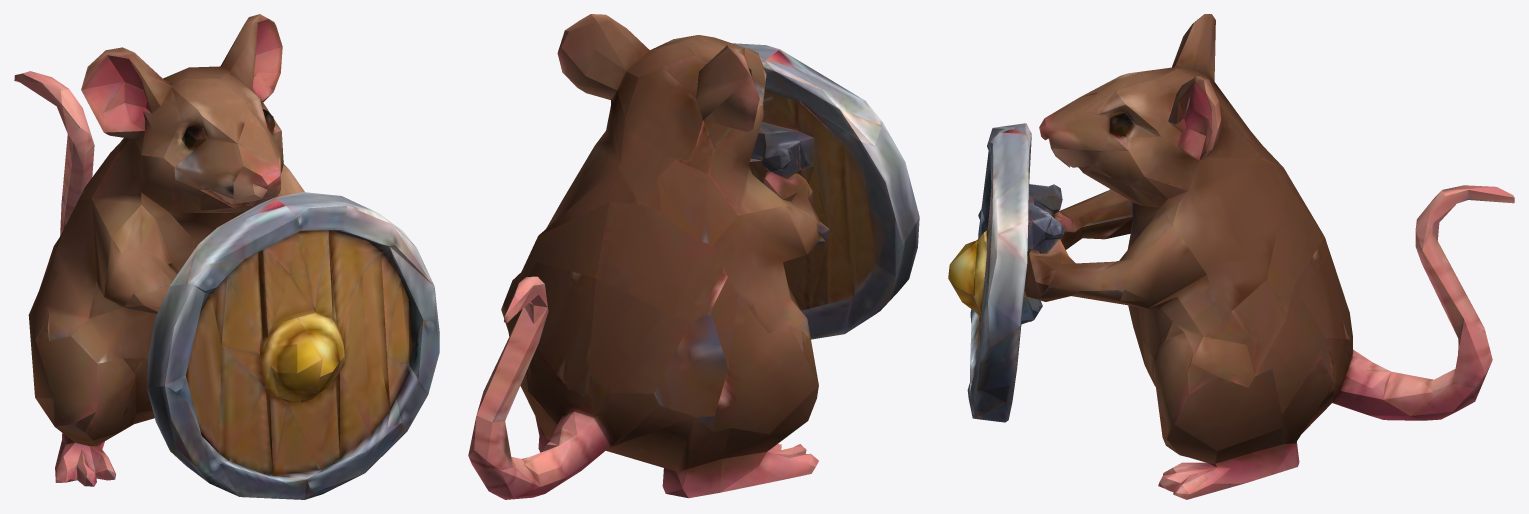
The model's file is rat-3.glb.
The picture shows the model from 3 angles, left to right: view 1: azimuth 30°, elevation 25°; view 2: azimuth 150°, elevation 25°; view 3: azimuth 270°, elevation 25°; orthographic projection. The views are drawn at different scales.
Size of the model in its own units: 1.05 by 1.43 by 1.89.
Materials: 1 (1 with a texture image).
